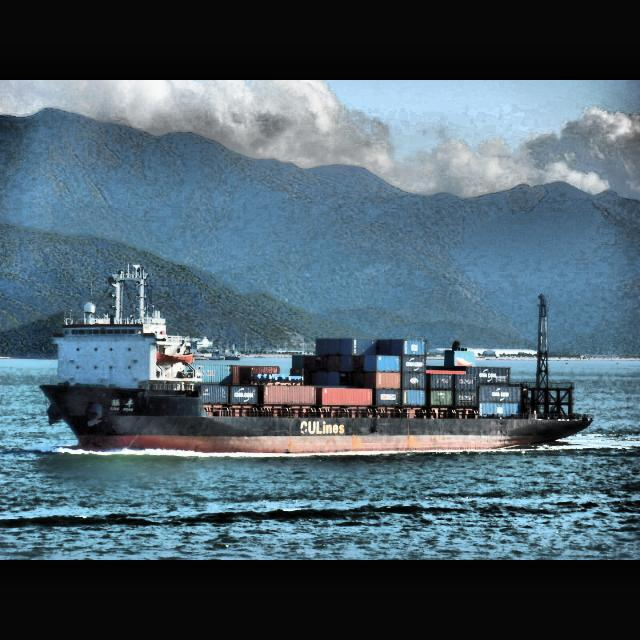container: (39, 264, 594, 456)
